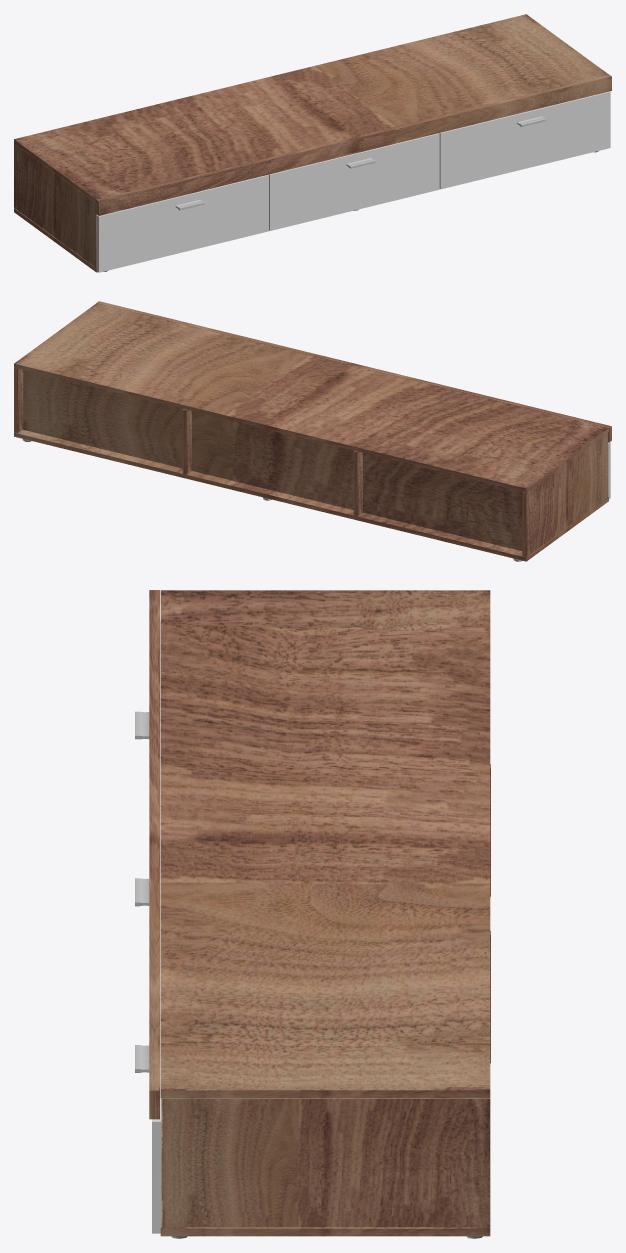
File: TVCabinet.fbx
The picture shows the model from 3 angles, top to bottom: view 1: azimuth 30°, elevation 25°; view 2: azimuth 150°, elevation 25°; view 3: azimuth 270°, elevation 25°; orthographic projection. The views are drawn at different scales.
Visible parts, largest first — view 1: Case, LeftCompartment.005, RightCompartment.004, CenterCompartment; view 2: Case; view 3: Case, RightCompartment.004.
Boxes of the visible parts, x1,y1,x2,y2 form: Case: (14,14,611,272); LeftCompartment.005: (96,175,268,272); RightCompartment.004: (439,91,610,189); CenterCompartment: (268,133,439,230); Case: (14,301,611,561); Case: (149,590,490,1236); RightCompartment.004: (152,955,161,1233).
Size of the model in its own units: 300 by 42.98 by 90.22.
